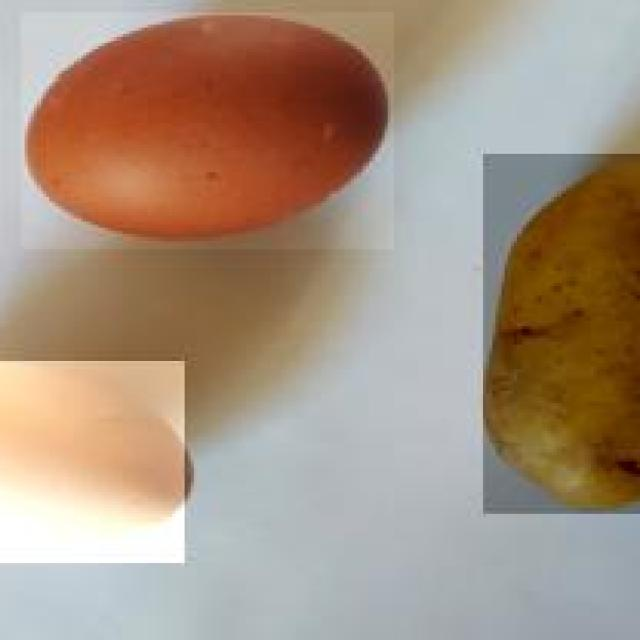egg: (17, 9, 392, 249), (0, 357, 185, 563)
potato: (480, 148, 640, 510)
